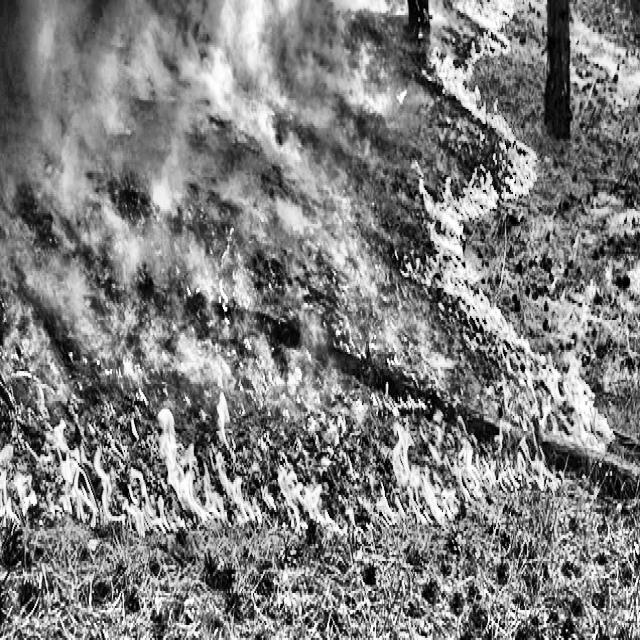fire: (5, 326, 547, 640), (375, 0, 640, 503)
